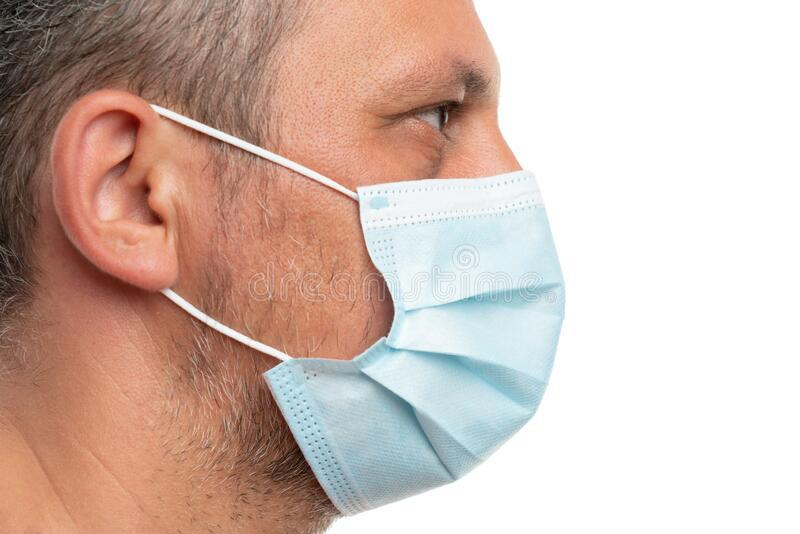with_mask: (1, 1, 568, 522)
